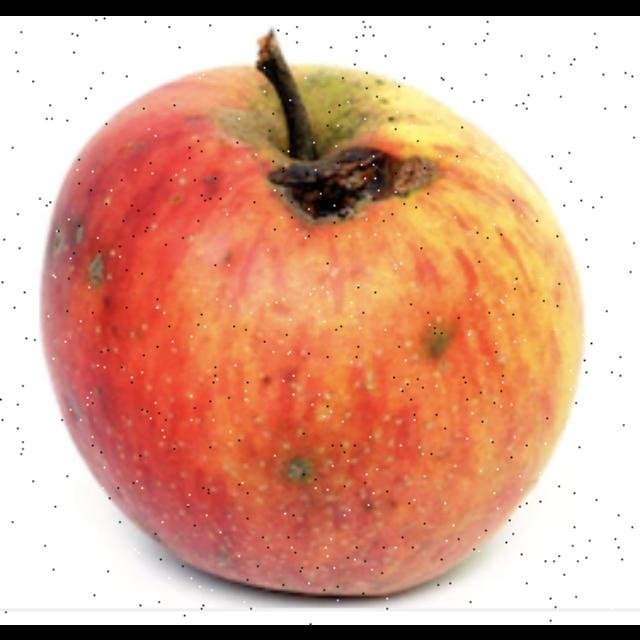Apel Tidak Segar: (43, 54, 593, 595)
